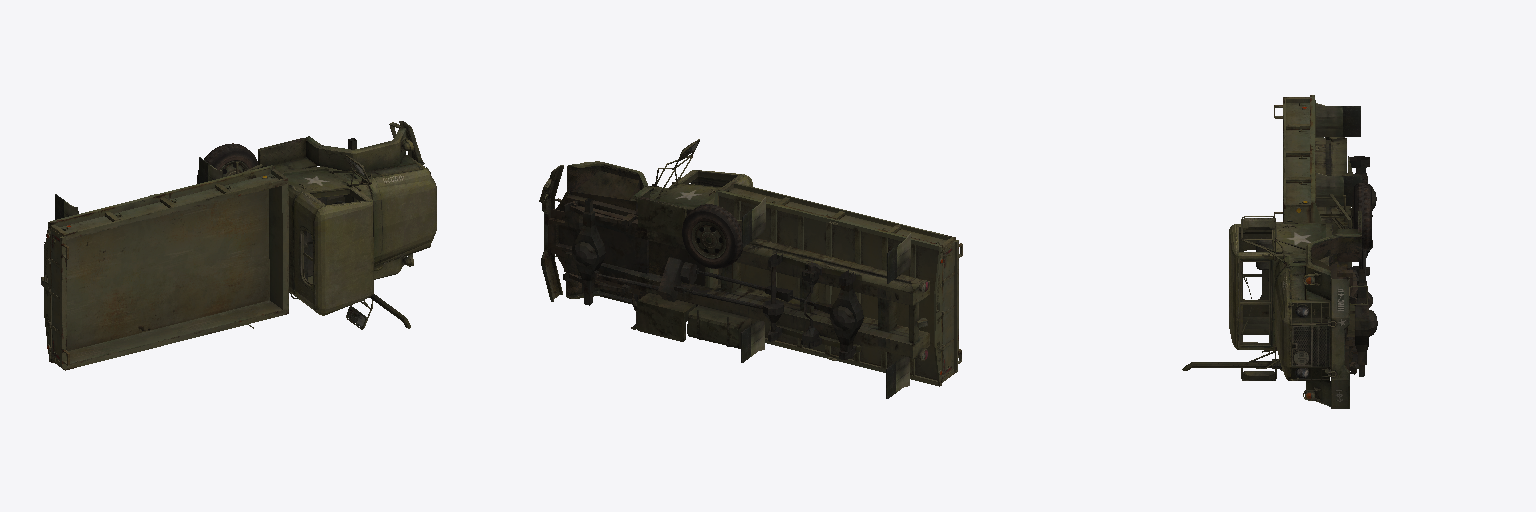
3 views of the same model, side by side, from view 1: azimuth 30°, elevation 25°; view 2: azimuth 150°, elevation 25°; view 3: azimuth 270°, elevation 25° (orthographic).
Bounding box in the file's own units: 6.78 × 2.76 × 2.97.
4 materials, 4 textured.